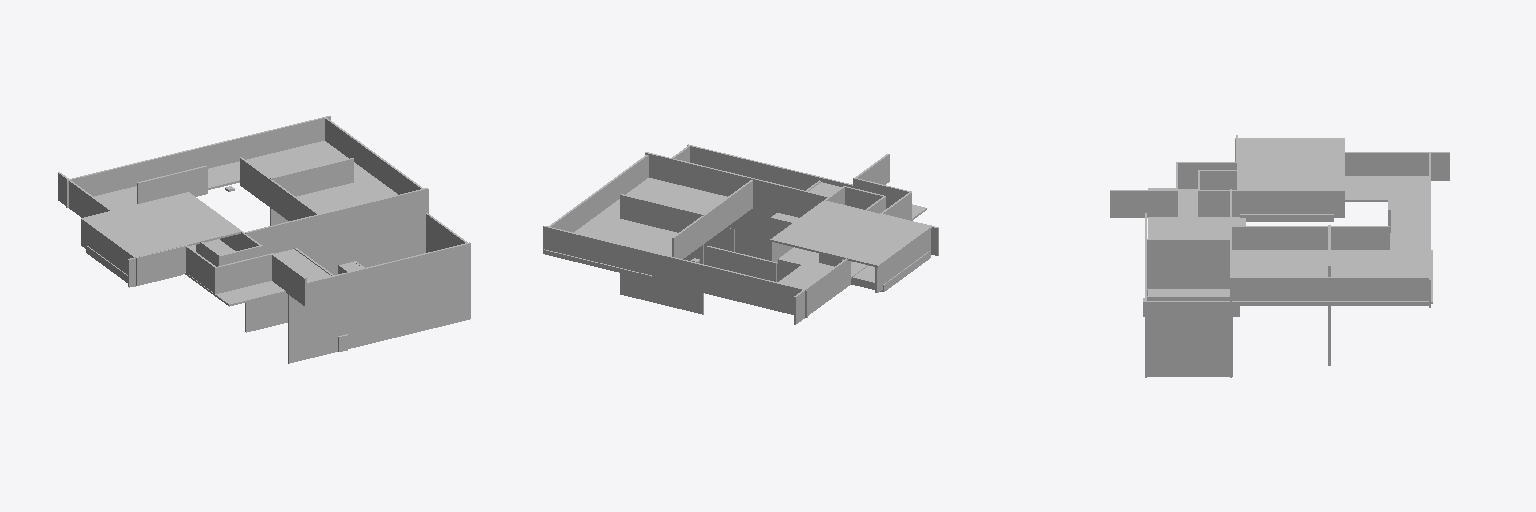
3 views of the same model, side by side, from view 1: azimuth 30°, elevation 25°; view 2: azimuth 150°, elevation 25°; view 3: azimuth 270°, elevation 25° (orthographic).
Visible parts, largest first — view 1: Cube.007_Cube.066, Cube.006_Cube.065, Cube.018_Cube.078, Cube.027_Cube.087, Cube.030_Cube.090, Cube.033_Cube.093, Cube.034_Cube.001, Cube.032_Cube.092, Cube.011_Cube.071, Cube.029_Cube.089, Cube.020_Cube.080, Cube.012_Cube.072 (+6 smaller); view 2: Cube.027_Cube.087, Cube.006_Cube.065, Cube.018_Cube.078, Cube.030_Cube.090, Cube.034_Cube.001, Cube.007_Cube.066, Cube.032_Cube.092, Cube.033_Cube.093, Cube.026_Cube.086, Cube.029_Cube.089, Cube.019_Cube.079, Cube.025_Cube.085 (+6 smaller); view 3: Cube.031_Cube.091, Cube.030_Cube.090, Cube.018_Cube.078, Cube.033_Cube.093, Cube.008_Cube.067, Cube.032_Cube.092, Cube.016_Cube.076, Cube.026_Cube.086, Cube.011_Cube.071, Cube.025_Cube.085, Cube.028_Cube.088, Cube.017_Cube.077 (+4 smaller).
Boxes of the visible parts, <box> form: Cube.007_Cube.066: <box>288,242,470,363</box>; Cube.006_Cube.065: <box>245,188,428,332</box>; Cube.018_Cube.078: <box>81,192,241,257</box>; Cube.027_Cube.087: <box>66,116,330,207</box>; Cube.030_Cube.090: <box>226,141,397,213</box>; Cube.033_Cube.093: <box>325,117,423,194</box>; Cube.034_Cube.001: <box>270,158,353,225</box>; Cube.032_Cube.092: <box>240,157,318,220</box>; Cube.011_Cube.071: <box>185,249,330,306</box>; Cube.029_Cube.089: <box>137,166,207,203</box>; Cube.020_Cube.080: <box>128,245,186,287</box>; Cube.012_Cube.072: <box>216,253,273,293</box>; Cube.027_Cube.087: <box>543,226,807,317</box>; Cube.006_Cube.065: <box>645,152,827,280</box>; Cube.018_Cube.078: <box>771,200,931,267</box>; Cube.030_Cube.090: <box>543,178,726,277</box>; Cube.034_Cube.001: <box>620,194,703,314</box>; Cube.007_Cube.066: <box>687,144,852,190</box>; Cube.032_Cube.092: <box>672,180,752,258</box>; Cube.033_Cube.093: <box>548,155,648,232</box>; Cube.026_Cube.086: <box>794,258,850,324</box>; Cube.029_Cube.089: <box>706,246,776,281</box>; Cube.019_Cube.079: <box>875,225,931,292</box>; Cube.025_Cube.085: <box>778,255,864,288</box>; Cube.031_Cube.091: <box>1147,301,1232,376</box>; Cube.030_Cube.090: <box>1231,250,1432,303</box>; Cube.018_Cube.078: <box>1237,138,1344,189</box>; Cube.033_Cube.093: <box>1232,277,1430,305</box>; Cube.008_Cube.067: <box>1147,239,1229,288</box>; Cube.032_Cube.092: <box>1232,226,1389,249</box>; Cube.016_Cube.076: <box>1199,190,1344,217</box>; Cube.026_Cube.086: <box>1345,152,1449,180</box>; Cube.011_Cube.071: <box>1148,188,1245,238</box>; Cube.025_Cube.085: <box>1345,176,1428,201</box>; Cube.028_Cube.088: <box>1389,200,1428,250</box>; Cube.017_Cube.077: <box>1110,190,1176,217</box>.
Bounding box in the file's own units: 167 × 53.44 × 165.